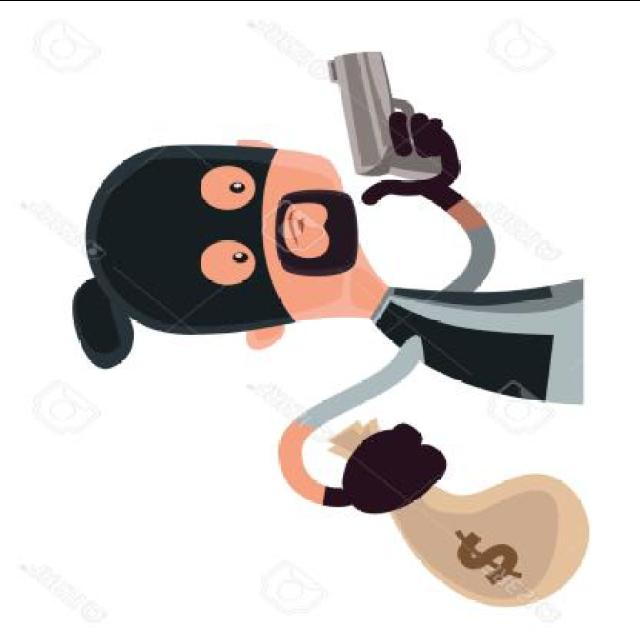pistol: (327, 47, 459, 187)
